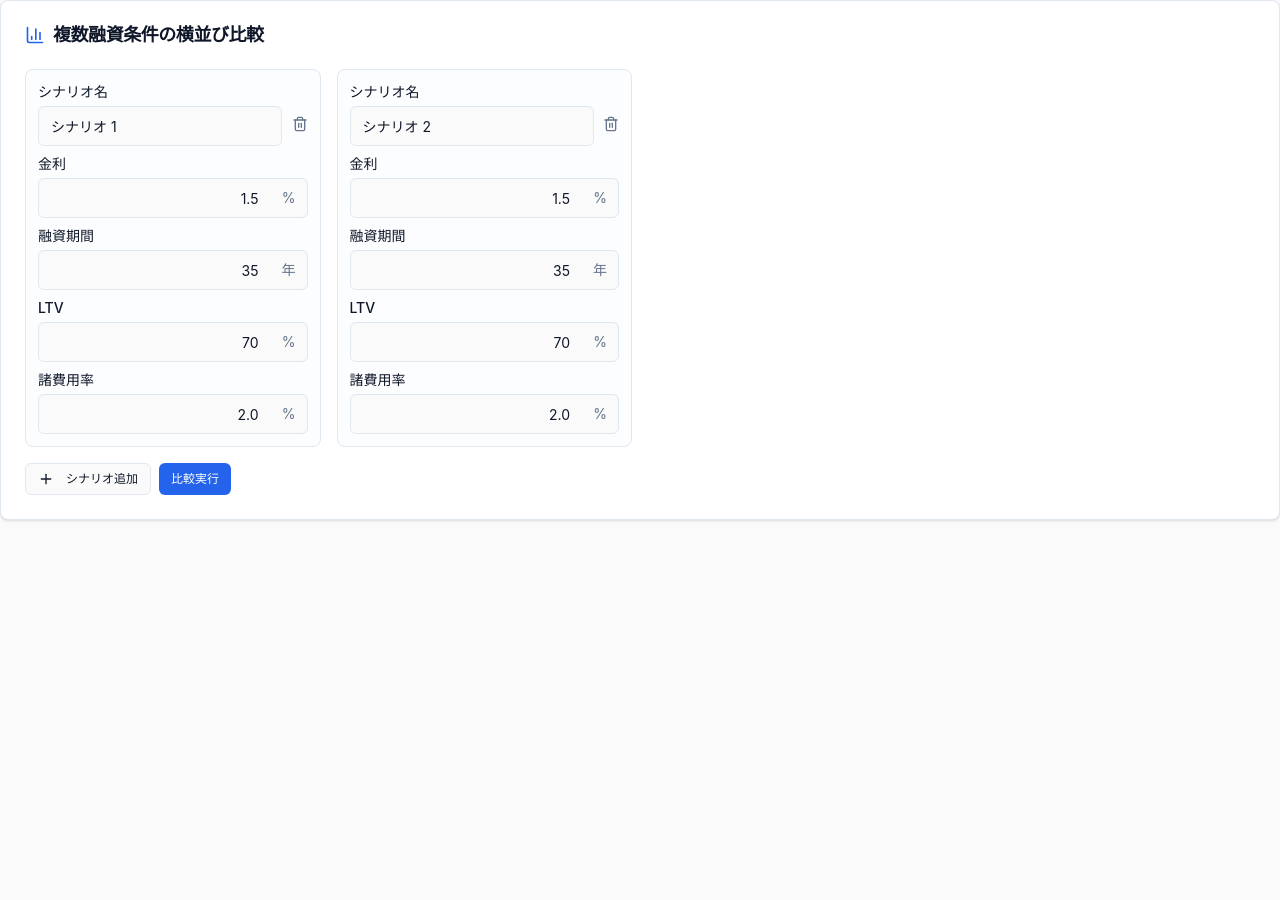
Test: LoanComparePanel › 比較結果が返ると表が表示される
The width and height of the screenshot is (1280, 900).
Click the button "比較実行" at {"x": 195, "y": 479}, box [159,463,231,495]
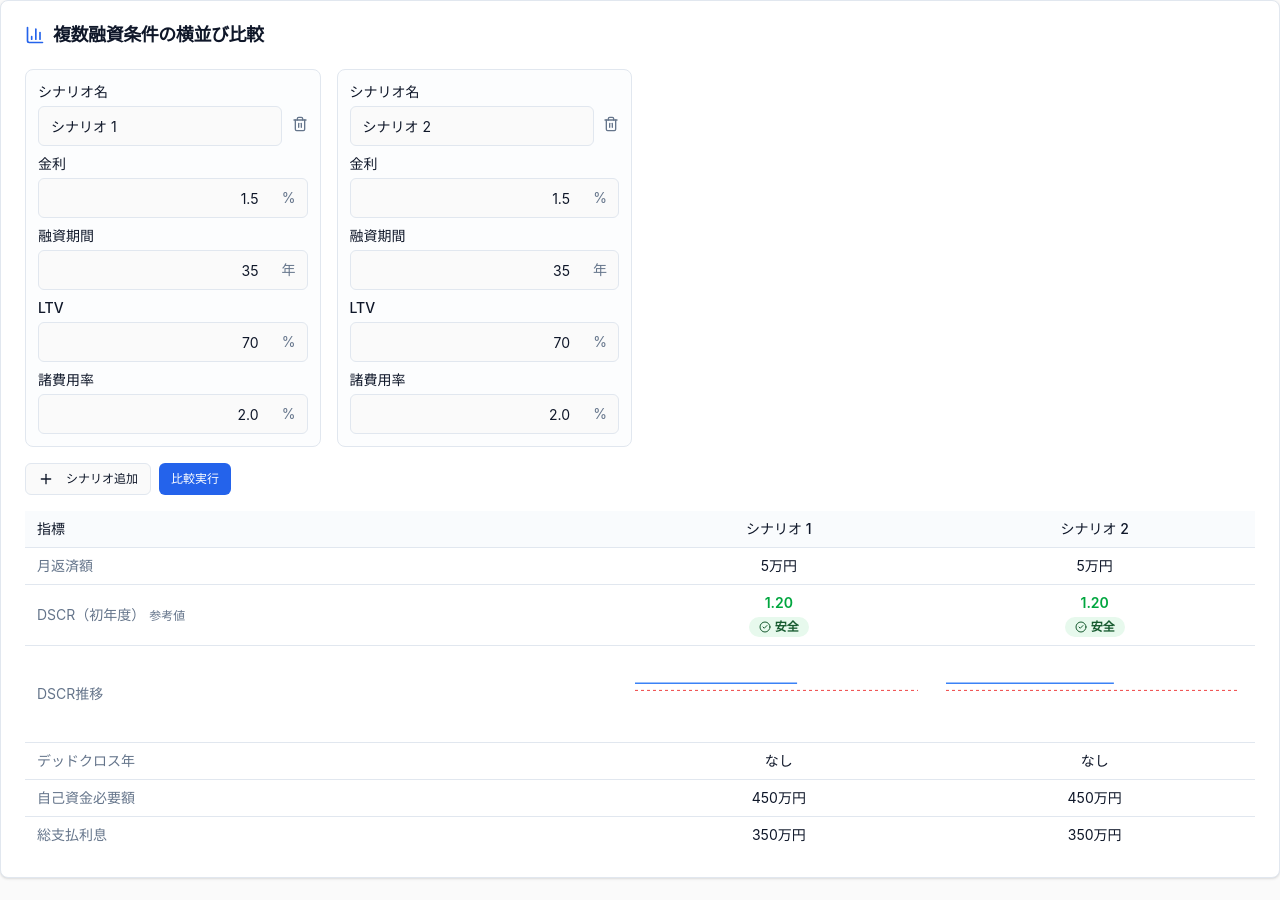
Expected: the text "月返済額" is shown, [25,548,623,584]
